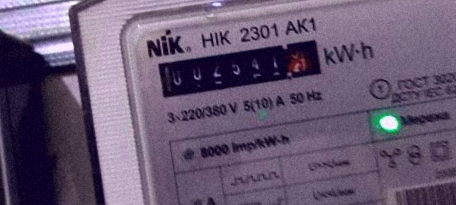0: (168, 64, 184, 87), (188, 60, 203, 82)
1: (266, 49, 280, 71)
2: (208, 58, 223, 79)
4: (247, 51, 262, 73)
5: (227, 54, 242, 77)
6: (290, 58, 303, 75)
screen: (146, 28, 334, 108)
